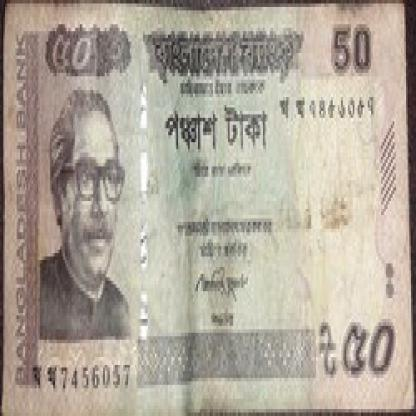Fifty taka: (325, 291, 401, 402), (43, 31, 102, 108)
